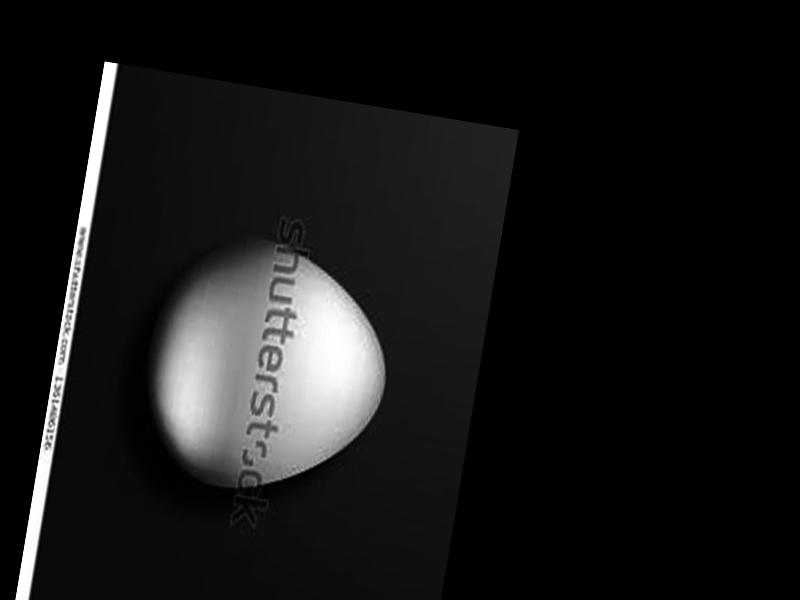Eggs: (131, 224, 406, 510)
